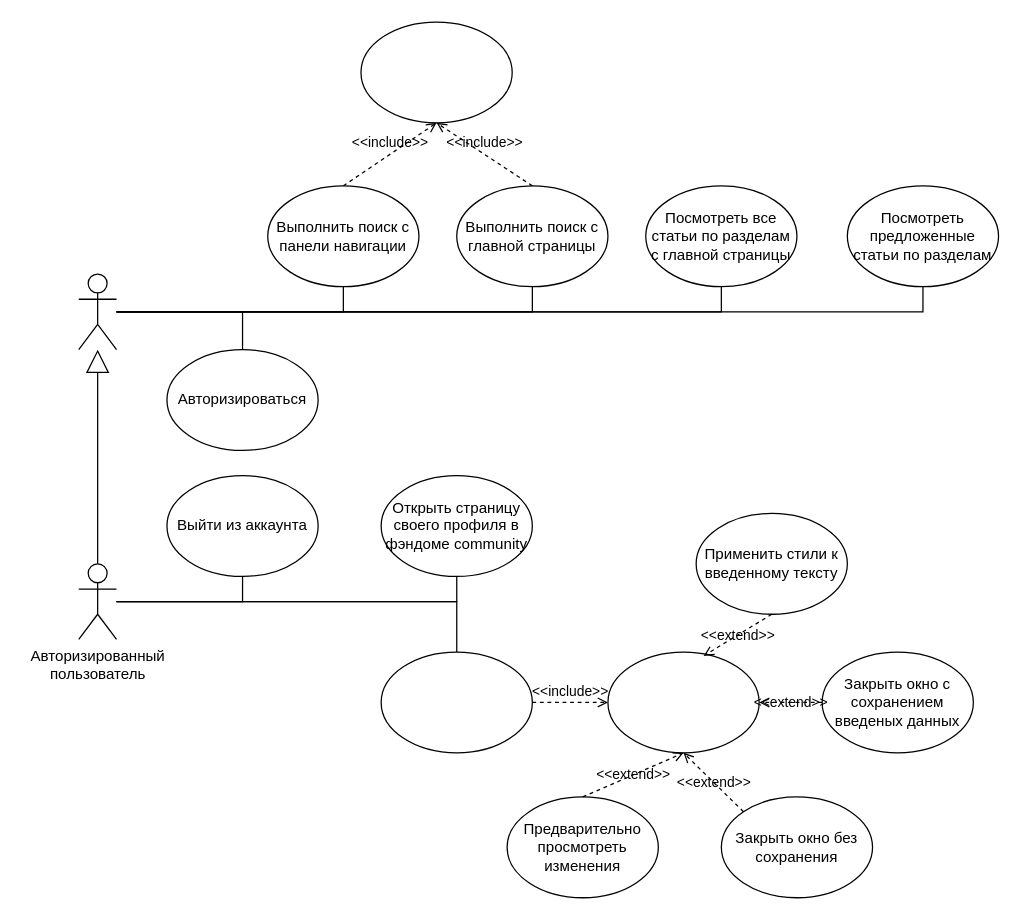
This 1021x920 diagram has some shape labels left out. Here are the shapes that lost their labels. From the top down, the centre of each, then its label:
pixel 436 72: Выполнить поиск
pixel 97 311: Неавторизированный пользователь
pixel 456 702: Отредактировать страницу своего профиля в фэндоме community
pixel 683 702: Открыть окно редактора страницы
